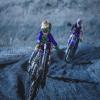motorcycles: (30, 38, 54, 100), (66, 30, 80, 62)
